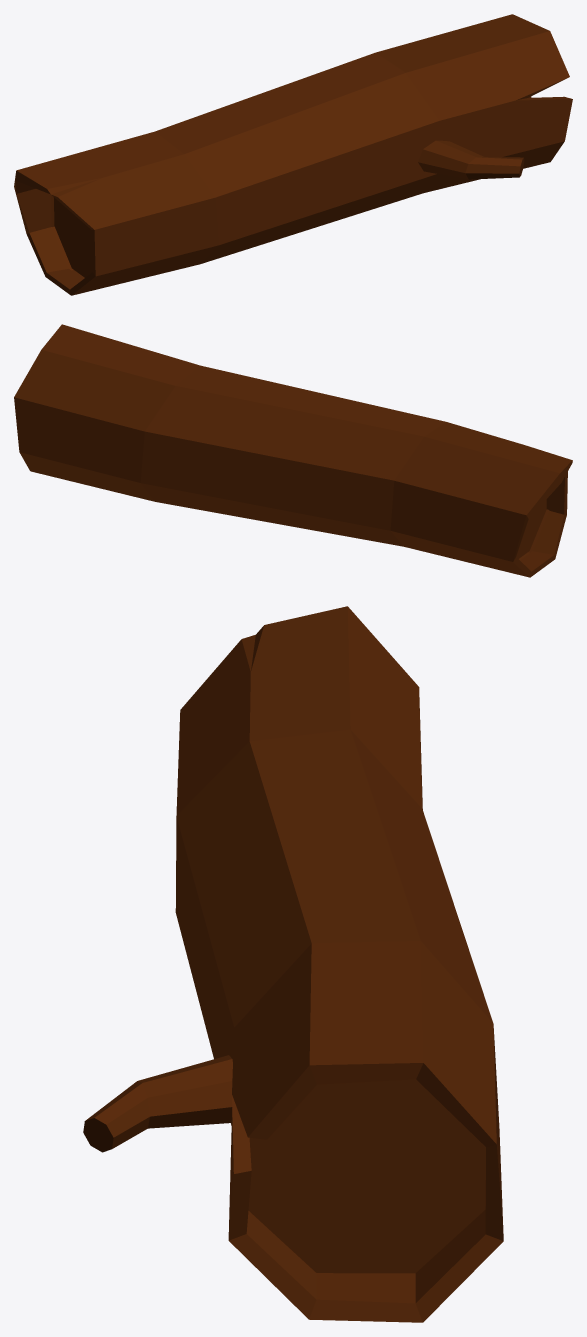
The model's file is log01.glb.
3 views of the same model, one above another, from view 1: azimuth 30°, elevation 25°; view 2: azimuth 150°, elevation 25°; view 3: azimuth 270°, elevation 25° (orthographic). The views are drawn at different scales.
Visible parts, largest first — view 1: log01; view 2: log01; view 3: log01.
Part boxes in pixels (x1,y1,x2,y2): log01: (14,14,572,295); log01: (14,324,572,577); log01: (83,606,503,1322).
Size of the model in its own units: 259 by 62.43 by 92.15.
